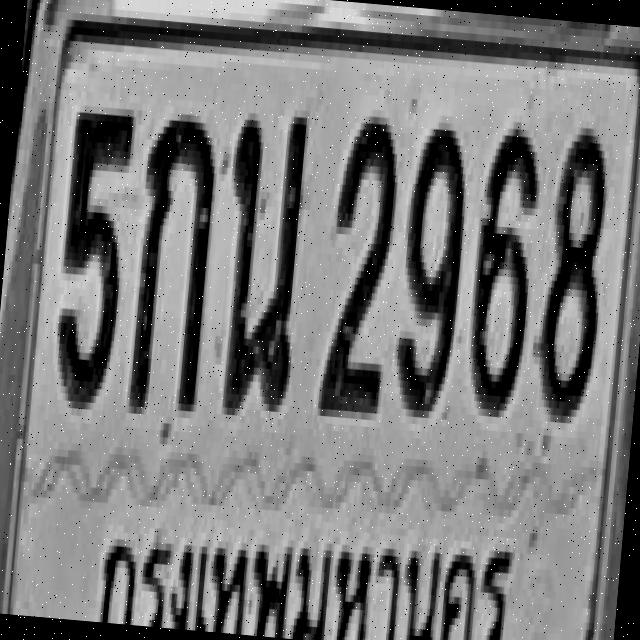10GorGai: (125, 108, 218, 415)
2: (317, 110, 403, 417)
34NorNu: (211, 104, 313, 420)
5: (50, 101, 136, 408)
6: (463, 120, 543, 418)
8: (531, 122, 614, 421)
9: (390, 120, 472, 419)
Bangkok: (83, 473, 528, 640)
